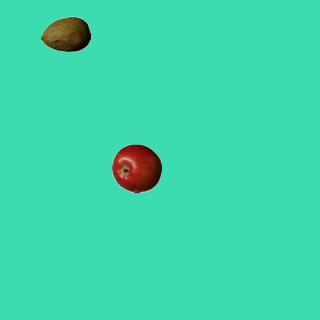Apple Braeburn: (111, 143, 161, 193)
Papaya: (40, 9, 90, 59)
